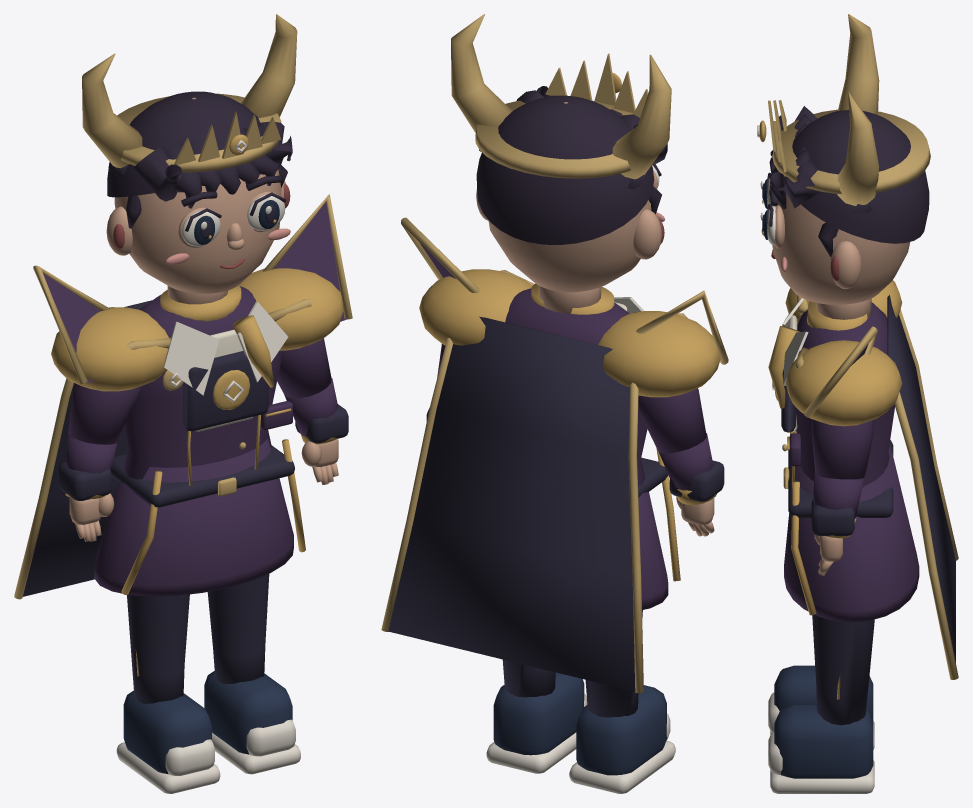
The model's file is elite_dragon_master.glb.
3 views of the same model, side by side, from view 1: azimuth 30°, elevation 25°; view 2: azimuth 150°, elevation 25°; view 3: azimuth 270°, elevation 25° (orthographic). The views are drawn at different scales.
Visible parts, largest first — view 1: figure.029; view 2: figure.029; view 3: figure.029.
Part boxes in pixels (x1,y1,x2,y2): figure.029: (14,14,352,793); figure.029: (381,14,728,793); figure.029: (757,14,958,793).
Bounding box in the file's own units: 1.28 × 2.96 × 0.7608.
